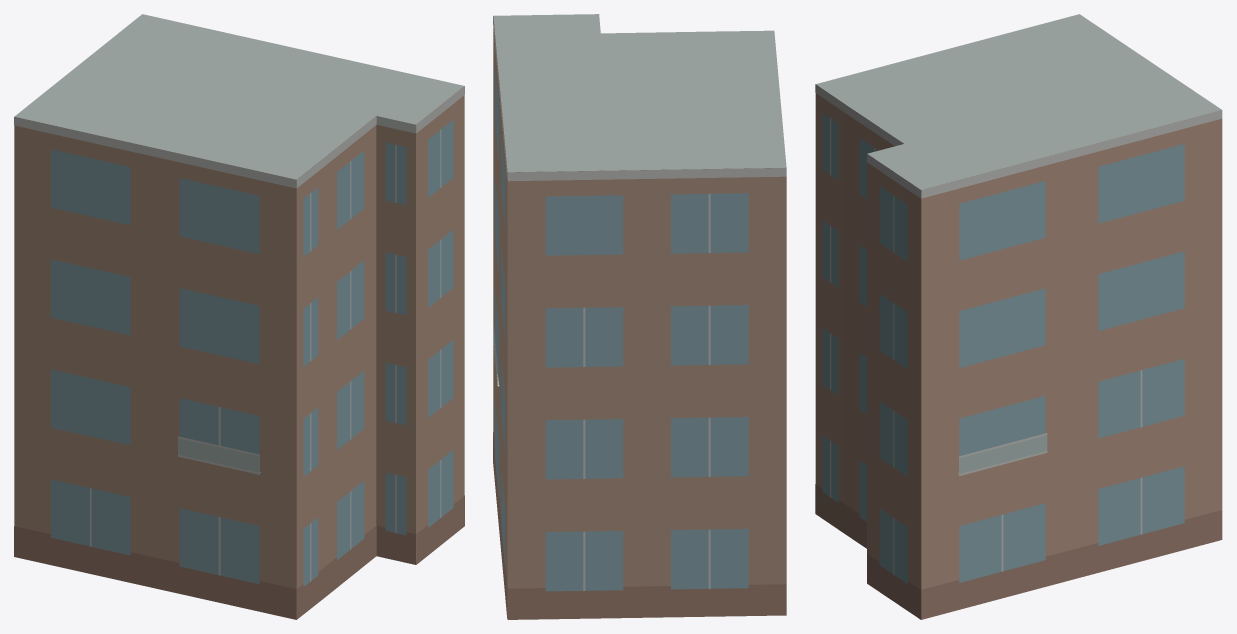
The model's file is residential-b0c1e271-77ae-407b-9d94-b1a89c034365.glb.
3 views of the same model, side by side, from view 1: azimuth 30°, elevation 25°; view 2: azimuth 150°, elevation 25°; view 3: azimuth 270°, elevation 25° (orthographic). The views are drawn at different scales.
Visible parts, largest first — view 1: residential-b0c1e271-77ae-407b-9d94-b1a89c034365.tmp; view 2: residential-b0c1e271-77ae-407b-9d94-b1a89c034365.tmp; view 3: residential-b0c1e271-77ae-407b-9d94-b1a89c034365.tmp.
Boxes of the visible parts, <box> form: residential-b0c1e271-77ae-407b-9d94-b1a89c034365.tmp: <box>14,14,464,619</box>; residential-b0c1e271-77ae-407b-9d94-b1a89c034365.tmp: <box>493,14,786,619</box>; residential-b0c1e271-77ae-407b-9d94-b1a89c034365.tmp: <box>815,14,1222,619</box>.
Size of the model in its own units: 10.73 by 12.2 by 10.47.
